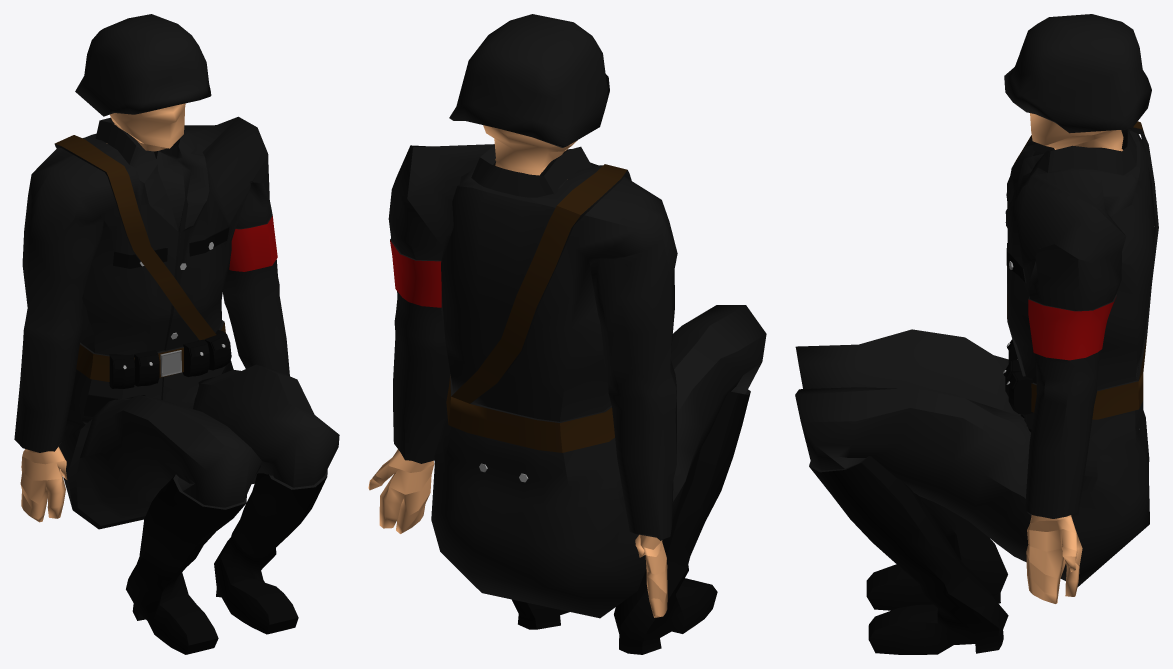
File: german_infantry_relaxed_crouch_04.glb
3 renders of one model, left to right at view 1: azimuth 30°, elevation 25°; view 2: azimuth 150°, elevation 25°; view 3: azimuth 270°, elevation 25°, orthographic. The views are drawn at different scales.
Visible parts, largest first — view 1: Soldier_1_Static, Helmet_Static; view 2: Soldier_1_Static, Helmet_Static; view 3: Soldier_1_Static, Helmet_Static.
Boxes of the visible parts, box(x1,y1,x2,y2) form: Soldier_1_Static: box(14, 103, 339, 654); Helmet_Static: box(75, 14, 211, 116); Soldier_1_Static: box(368, 125, 766, 654); Helmet_Static: box(449, 14, 609, 147); Soldier_1_Static: box(795, 113, 1158, 654); Helmet_Static: box(1004, 14, 1151, 133).
Size of the model in its own units: 0.5644 by 1.1 by 0.6022.
1 material, 1 textured.
